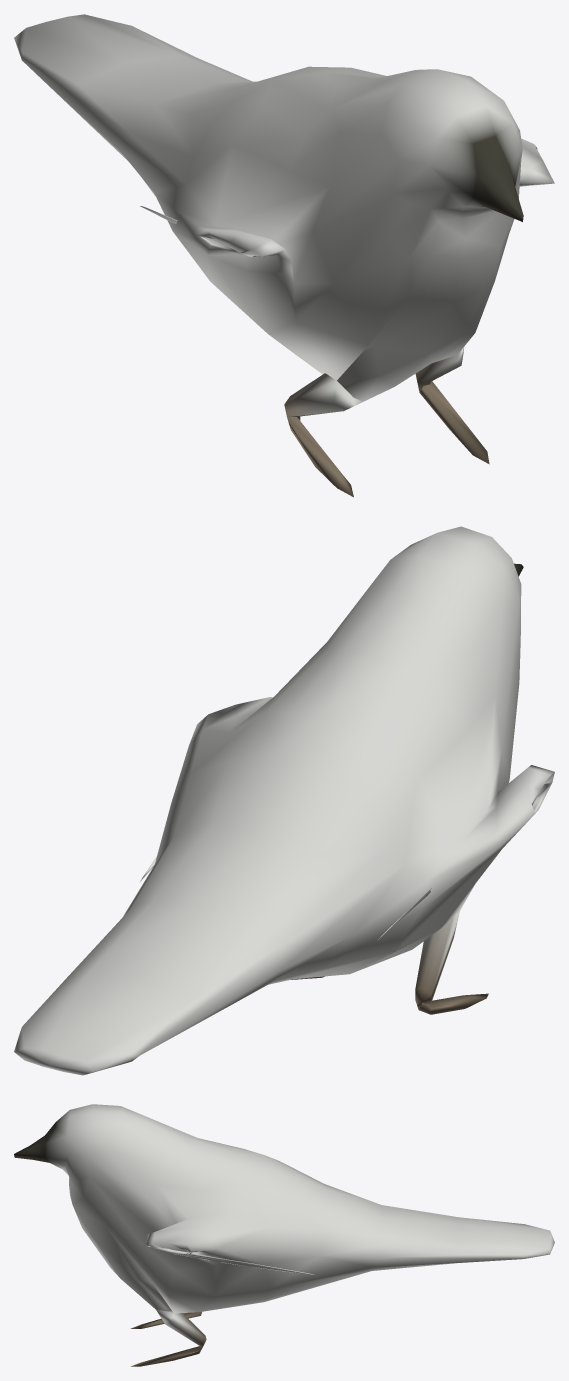
The model's file is dove-0.glb.
3 renders of one model, top to bottom at view 1: azimuth 30°, elevation 25°; view 2: azimuth 150°, elevation 25°; view 3: azimuth 270°, elevation 25°, orthographic. The views are drawn at different scales.
Visible parts, largest first — view 1: dove; view 2: dove; view 3: dove.
Boxes of the visible parts, x1,y1,x2,y2 form: dove: (14,14,554,497); dove: (14,526,554,1075); dove: (14,1104,554,1366).
Bounding box in the file's own units: 0.1354 × 0.1595 × 0.3266.
